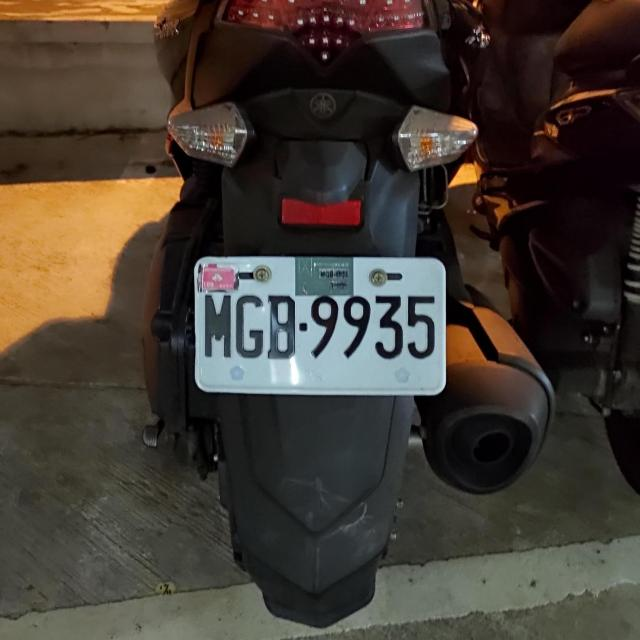W: (190, 249, 448, 398)
